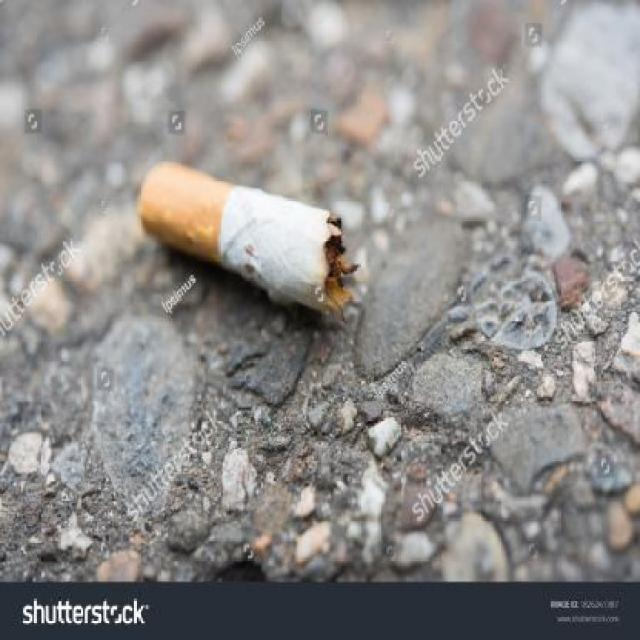cigarette: (140, 136, 343, 318)
